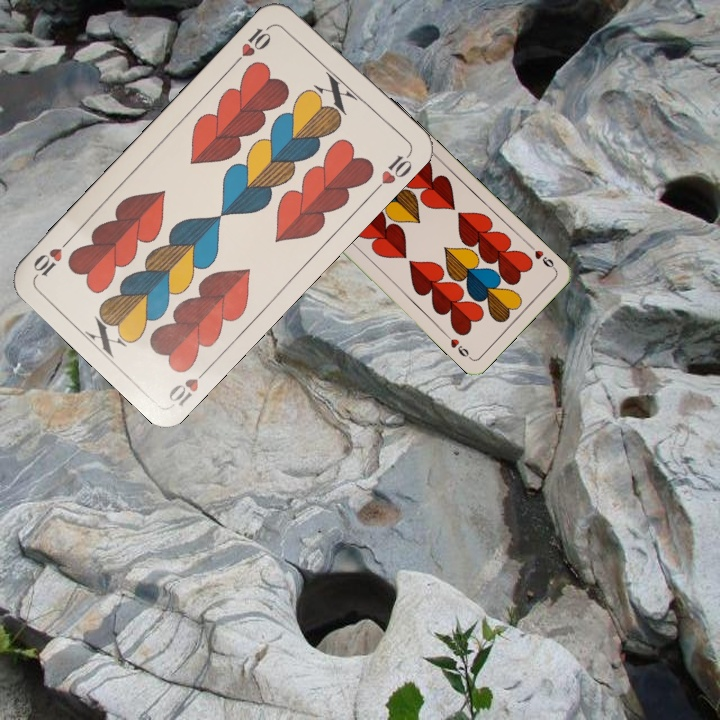H10: (164, 361, 214, 409), (230, 20, 276, 67)
H9: (526, 241, 558, 273)
